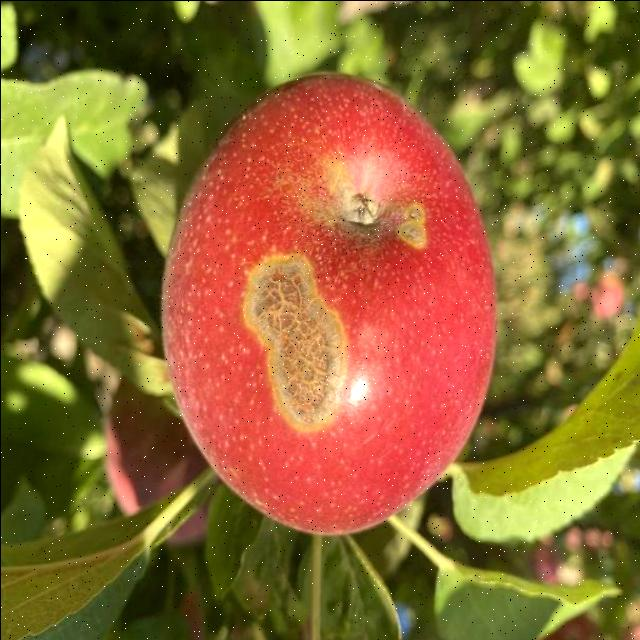SCAB: (148, 70, 515, 548)
